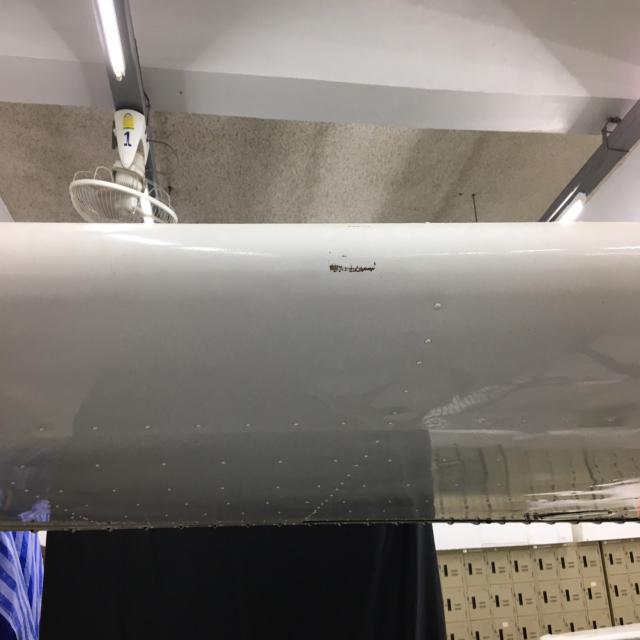Rupture: (315, 246, 386, 302)
